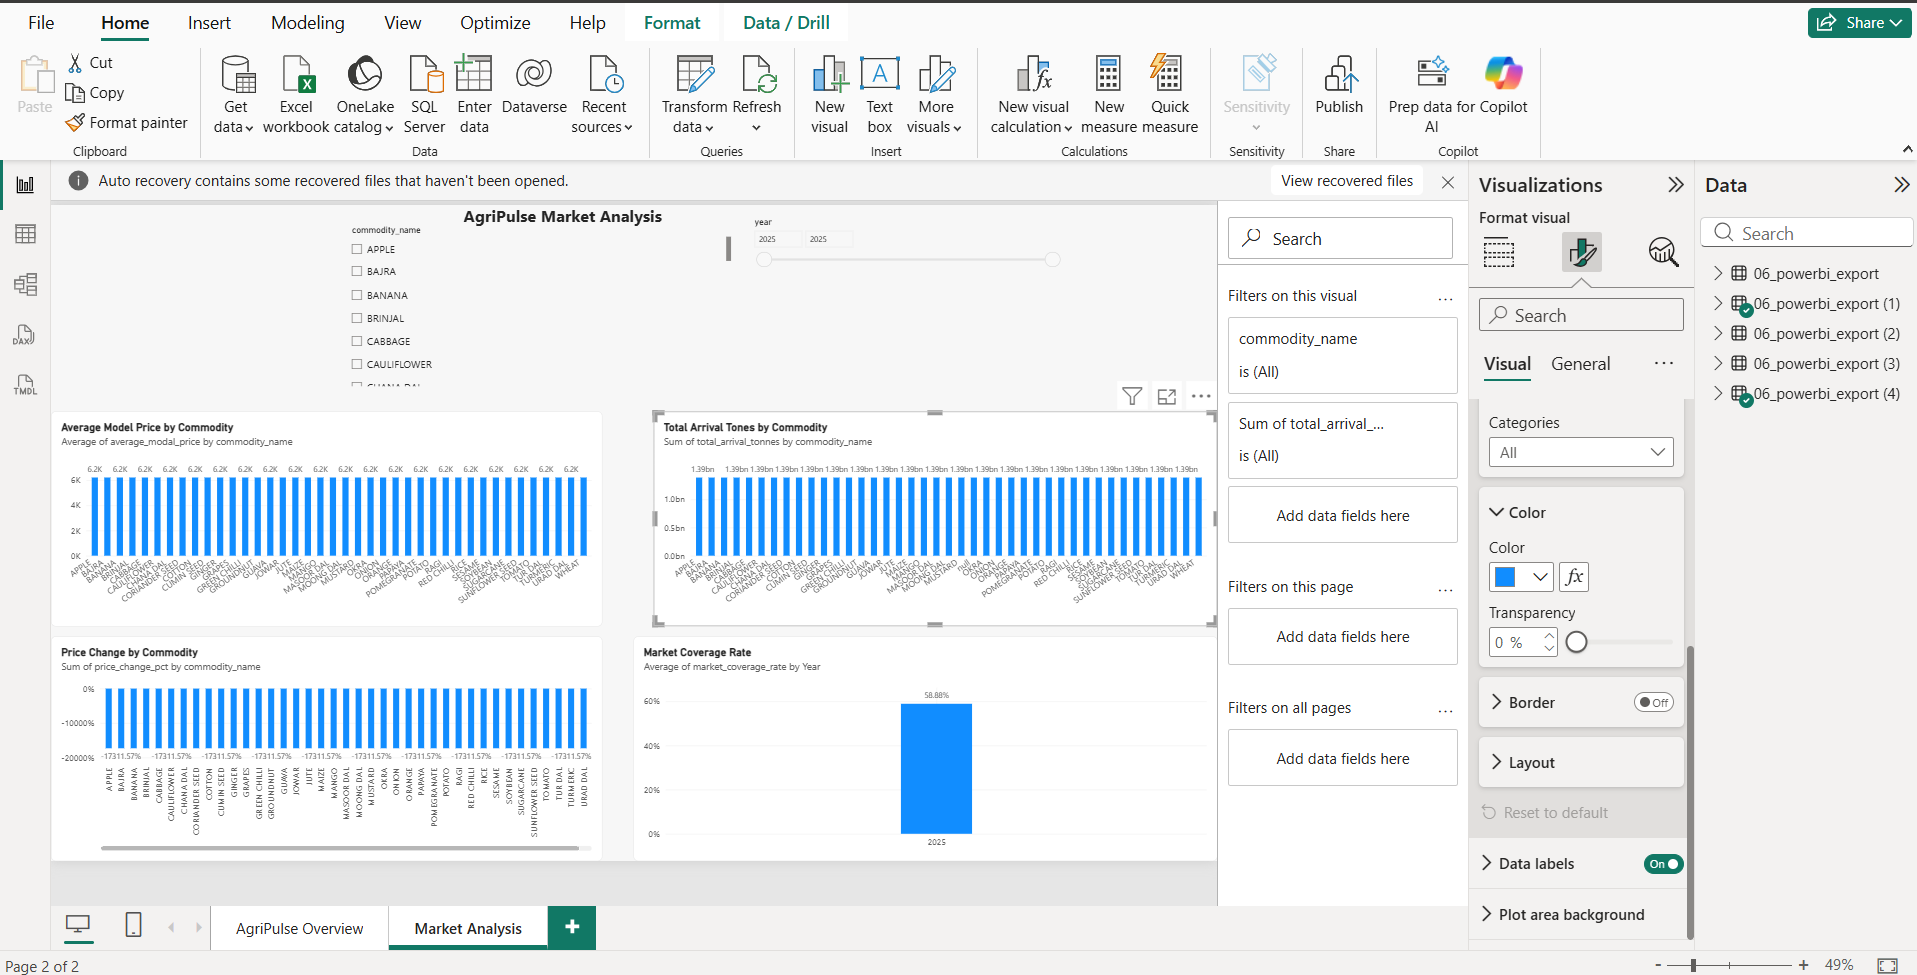

The dashboard page shown, as its layout file describes it:
{"tool":"powerbi","page":{"name":"Market Analysis","canvas":[1920,1080],"ordinal":1},"visuals":[{"type":"textbox","box":[679.2,0,566,90.6],"z":1000},{"type":"slicer","fields":{"Values":["06_powerbi_export (1).commodity_name"]},"box":[487.8,32.9,631.9,265.5],"z":2000},{"type":"slicer","fields":{"Values":["06_powerbi_export (1).year"]},"box":[1150.6,18.5,514.6,298.5],"z":3000},{"type":"clusteredColumnChart","title":"Average Model Price by Commodity","fields":{"Category":["06_powerbi_export (1).commodity_name"],"Y":["Avg(06_powerbi_export (4).average_modal_price)"]},"box":[0,339.6,907.7,354],"z":4000},{"type":"clusteredColumnChart","title":"Total Arrival Tones by Commodity","fields":{"Category":["06_powerbi_export (4).commodity_name"],"Y":["Sum(06_powerbi_export (1).total_arrival_tonnes)"]},"box":[992.1,339.6,928.3,354],"z":5000},{"type":"clusteredColumnChart","title":"Price Change by Commodity","fields":{"Category":["06_powerbi_export (1).commodity_name"],"Y":["Sum(06_powerbi_export (3).price_change_pct)"]},"box":[0,710.1,907.7,370.5],"z":6000},{"type":"clusteredColumnChart","title":"Market Coverage Rate","fields":{"Category":["06_powerbi_export (3).report_date.Variation.Date Hierarchy.Year"],"Y":["Avg(06_powerbi_export (2).market_coverage_rate)"]},"box":[959.2,710.1,961.2,370.5],"z":7000}]}

Visuals, with their boxes on the page's 1920x1080 design canvas (x1, y1, x2, y2). These are canvas units, not pixel positions in the 1917x975 screenshot, which may show the page scaled, cropped or inside an application window:
textbox: region(679, 0, 1245, 91)
slicer - 06_powerbi_export (1).commodity_name: region(488, 33, 1120, 298)
slicer - 06_powerbi_export (1).year: region(1151, 18, 1665, 317)
"Average Model Price by Commodity" clusteredColumnChart: region(0, 340, 908, 694)
"Total Arrival Tones by Commodity" clusteredColumnChart: region(992, 340, 1920, 694)
"Price Change by Commodity" clusteredColumnChart: region(0, 710, 908, 1081)
"Market Coverage Rate" clusteredColumnChart: region(959, 710, 1920, 1081)
